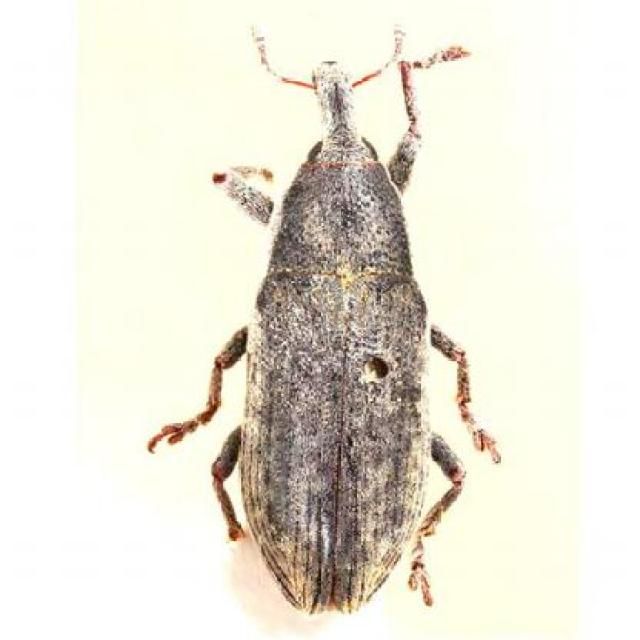rice-bug: (195, 50, 480, 612)
